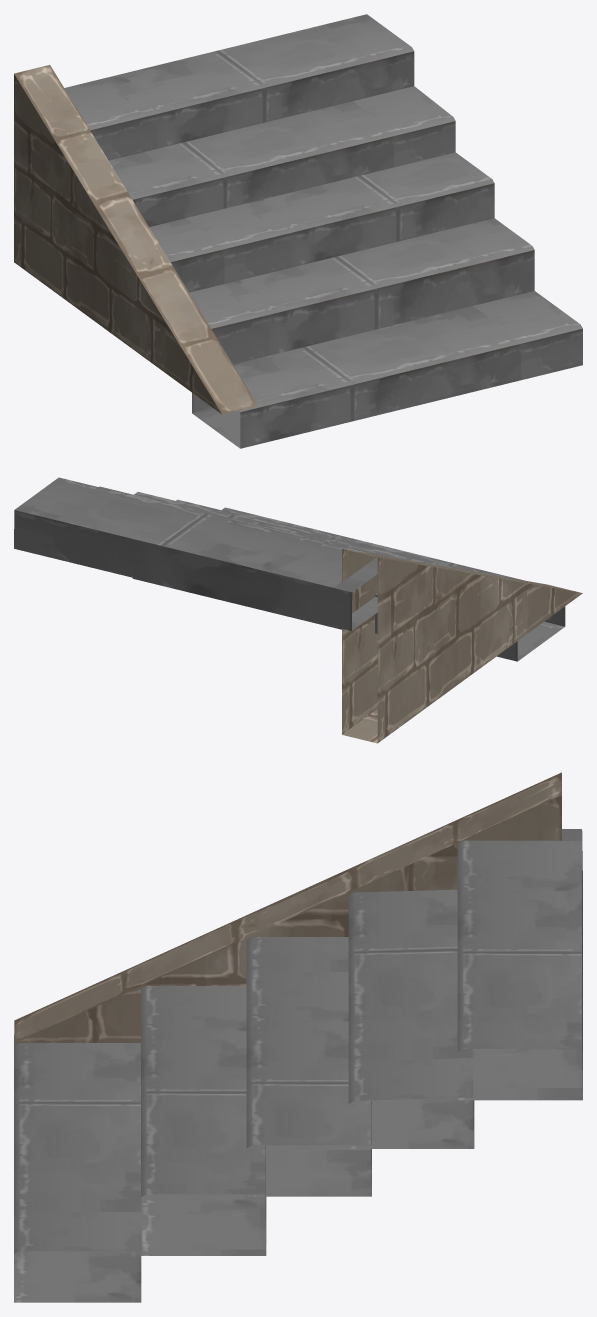
The model's file is Stairs_Exterior_Straight_L.glb.
3 views of the same model, one above another, from view 1: azimuth 30°, elevation 25°; view 2: azimuth 150°, elevation 25°; view 3: azimuth 270°, elevation 25° (orthographic). The views are drawn at different scales.
Visible parts, largest first — view 1: Stairs_Exterior_Straight_L; view 2: Stairs_Exterior_Straight_L; view 3: Stairs_Exterior_Straight_L.
Boxes of the visible parts, <box> form: Stairs_Exterior_Straight_L: <box>14,14,582,448</box>; Stairs_Exterior_Straight_L: <box>14,477,582,743</box>; Stairs_Exterior_Straight_L: <box>14,772,582,1302</box>.
Bounding box in the file's own units: 2 × 1.2 × 2.08.
2 materials, 2 textured.
